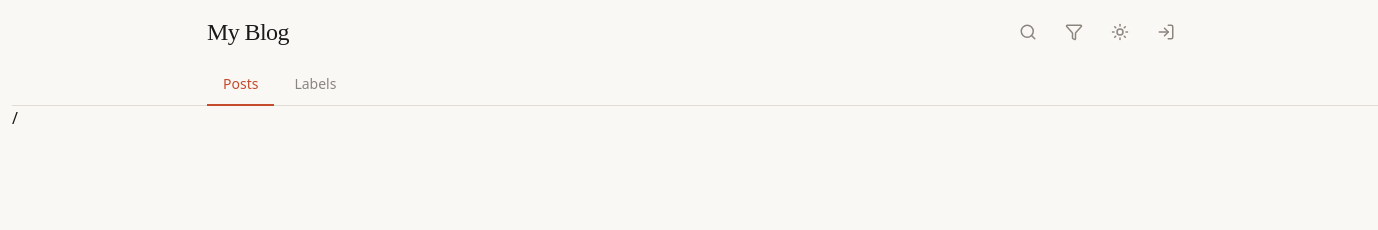
Test case: Header › live search dropdown › navigates to post on result click
Click the button named "Search". click: click(1028, 32)
box: top-left (1011, 15), bottom-right (1045, 49)
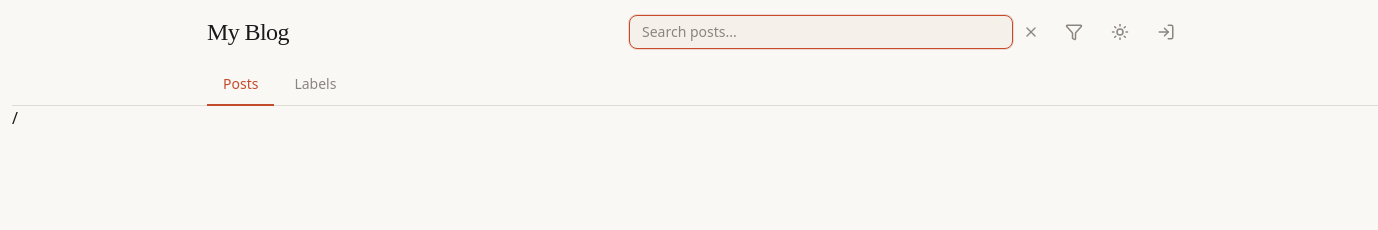
Type "hello" into the dropdown with placeholder "Search posts...". click: (821, 32)
box: top-left (629, 15), bottom-right (1013, 49)
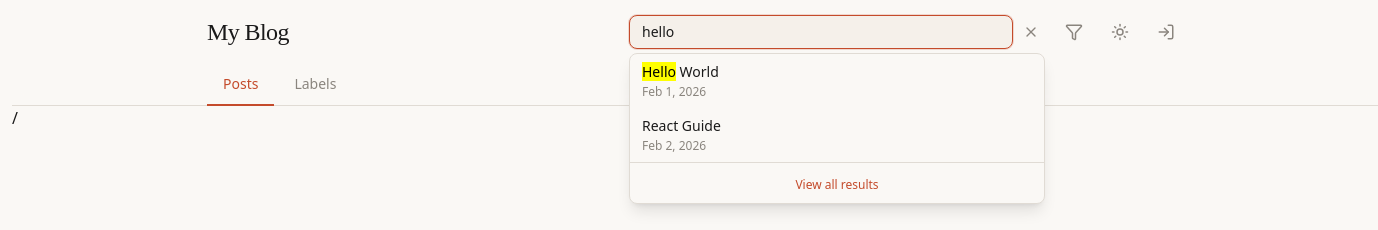
Now the list is shown, box top-left (642, 62), bottom-right (721, 154)
Press the mouse on the option "Hello World Feb 1, 2026" at (680, 81), box top-left (642, 62), bottom-right (719, 100)
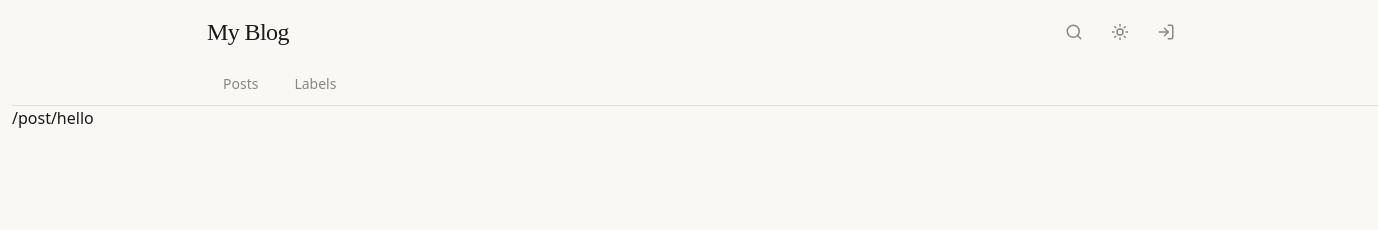
Now the list is gone
Now the text with test id "location-display" reads "/post/hello", box top-left (12, 107), bottom-right (94, 129)
